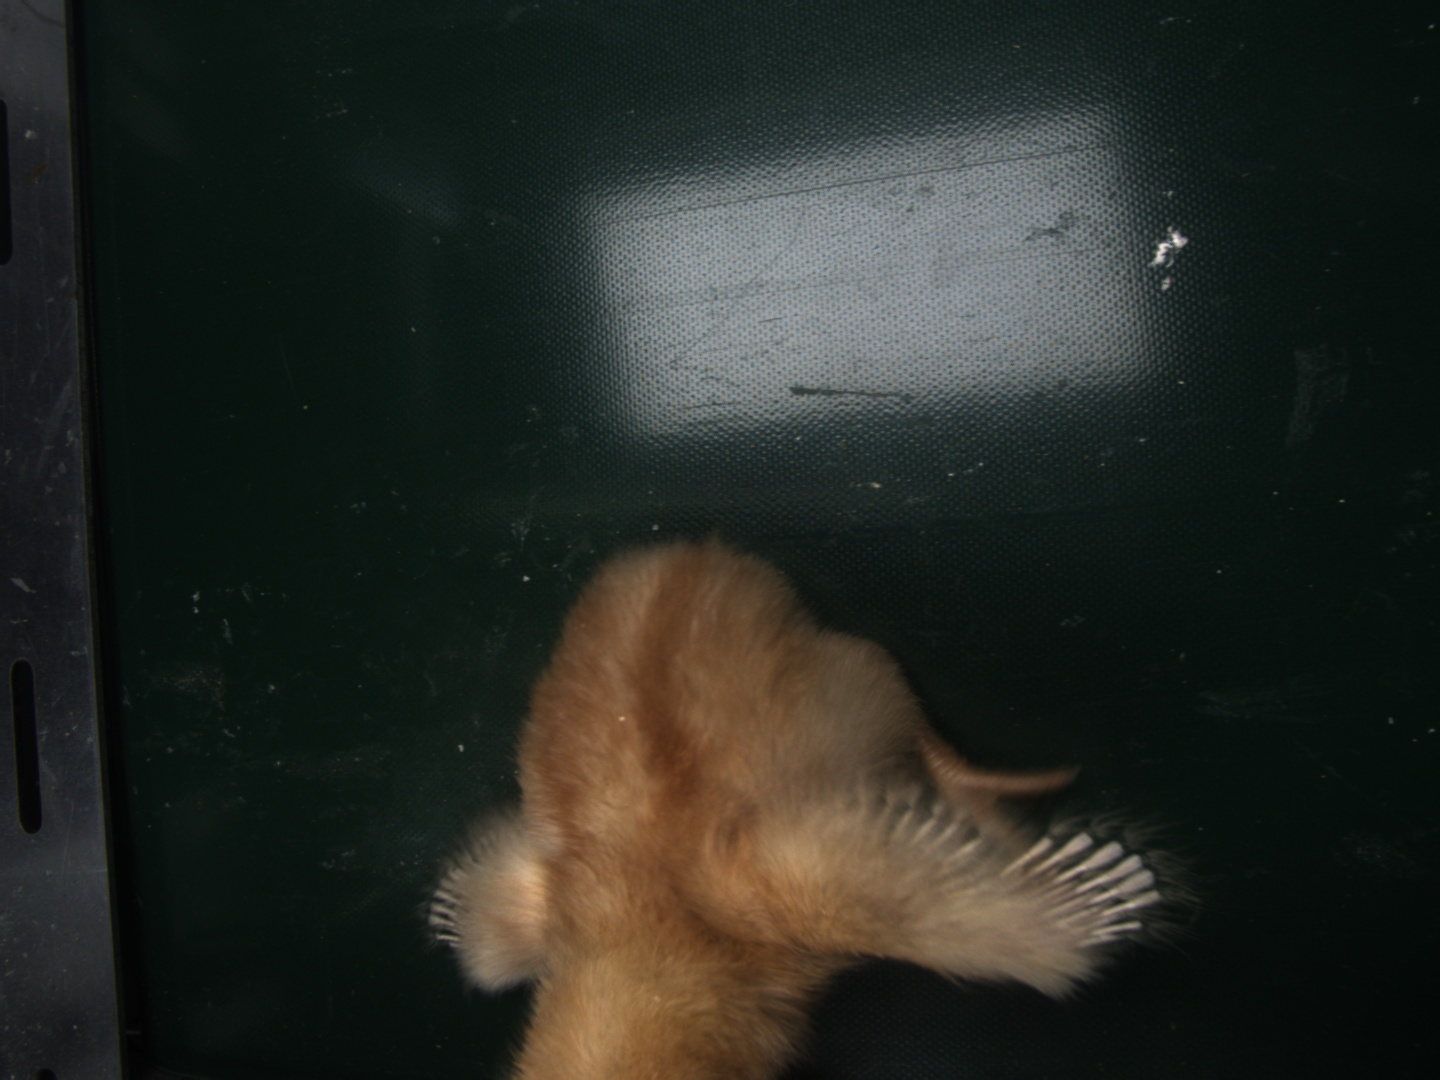female: (999, 830, 1161, 947)
